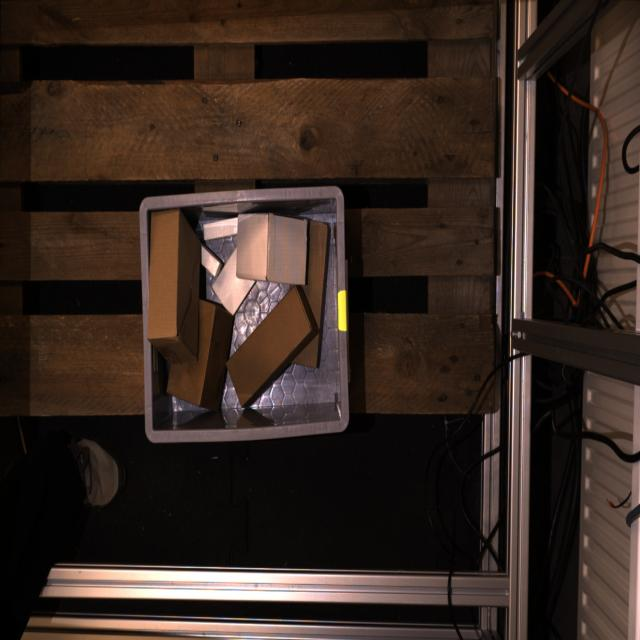CardboardBox: (226, 285, 313, 410), (147, 209, 203, 368), (167, 300, 236, 410), (237, 213, 307, 285), (211, 249, 255, 314), (302, 221, 328, 327), (203, 218, 237, 241), (201, 245, 222, 276), (298, 338, 319, 366)
